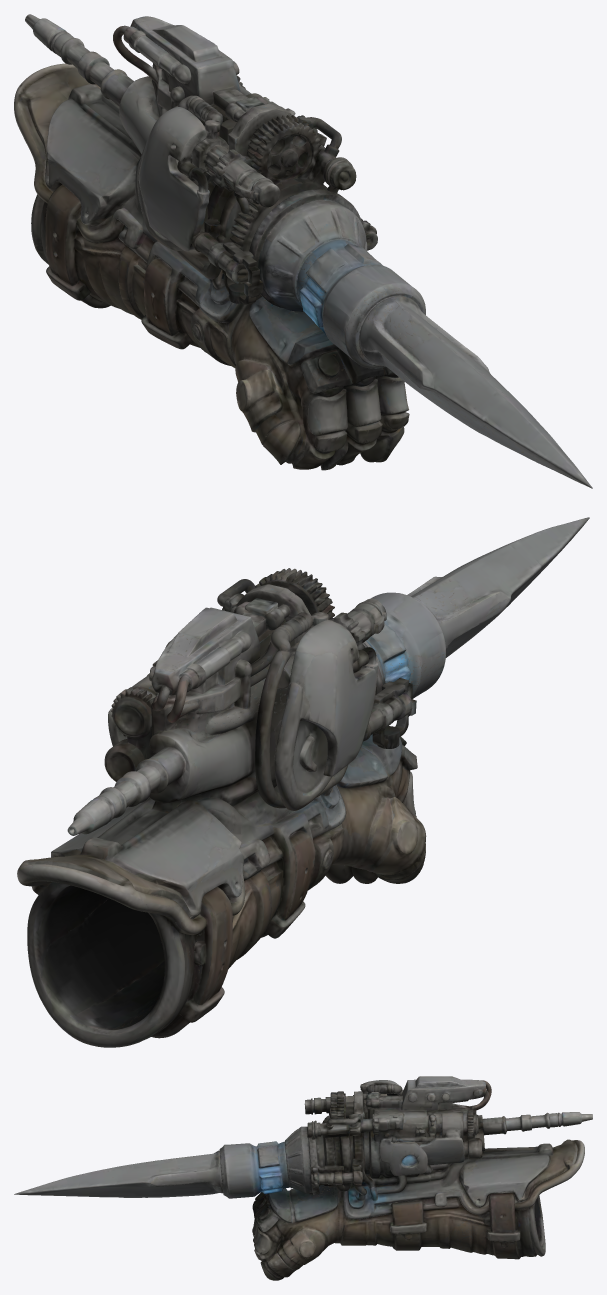
The model's file is pile-bunker.glb.
3 views of the same model, one above another, from view 1: azimuth 30°, elevation 25°; view 2: azimuth 150°, elevation 25°; view 3: azimuth 270°, elevation 25° (orthographic). The views are drawn at different scales.
Parts seen in each view (by area): view 1: node_0; view 2: node_0; view 3: node_0.
Part boxes in pixels (box(x1,y1,x2,y2)): node_0: box(14, 14, 592, 488); node_0: box(17, 517, 589, 1047); node_0: box(14, 1076, 592, 1280).
Size of the model in its own units: 0.2191 by 0.4238 by 1.18.
Materials: 1 (1 with a texture image).
